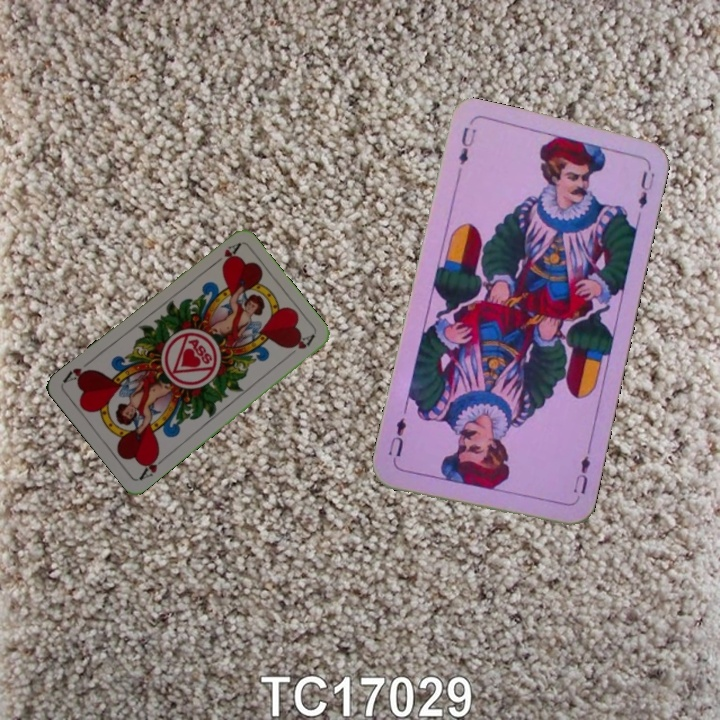EU: (569, 452, 593, 503), (454, 122, 479, 168)
HA: (135, 449, 170, 483), (207, 240, 242, 269)
